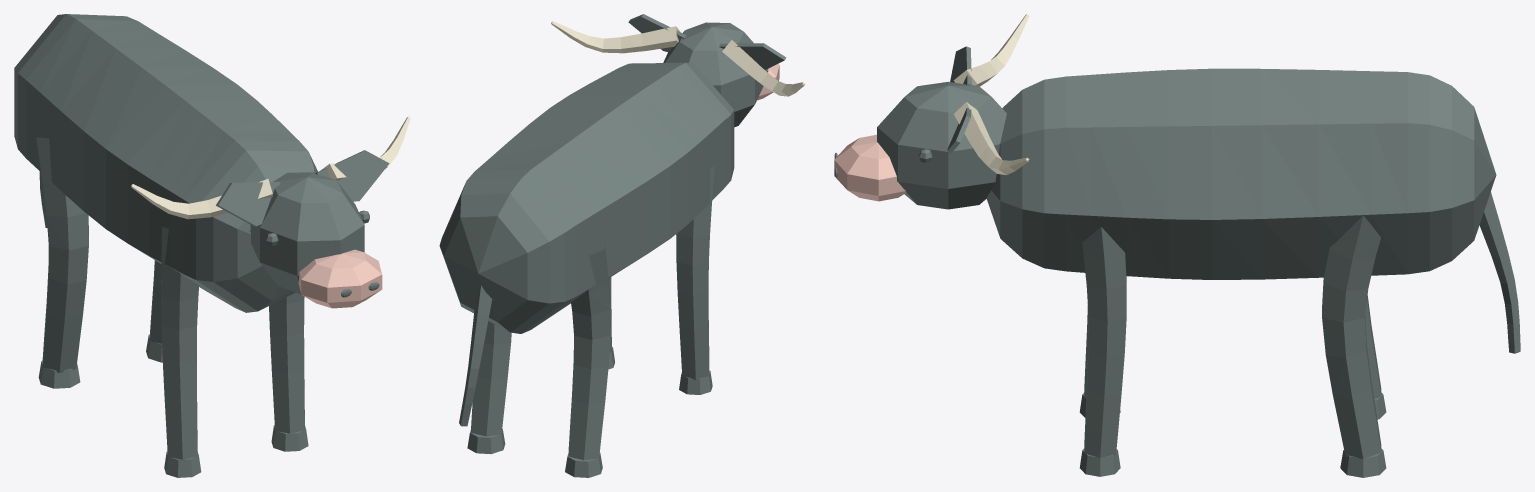
The model's file is water-buffalo.glb.
The picture shows the model from 3 angles, left to right: view 1: azimuth 30°, elevation 25°; view 2: azimuth 150°, elevation 25°; view 3: azimuth 270°, elevation 25°; orthographic projection. The views are drawn at different scales.
Parts seen in each view (by area): view 1: water-buffalo; view 2: water-buffalo; view 3: water-buffalo.
Part boxes in pixels (x1,y1,x2,y2): water-buffalo: [14, 14, 410, 477]; water-buffalo: [439, 14, 805, 477]; water-buffalo: [834, 14, 1520, 477].
Size of the model in its own units: 1.39 by 1.61 by 2.77.
